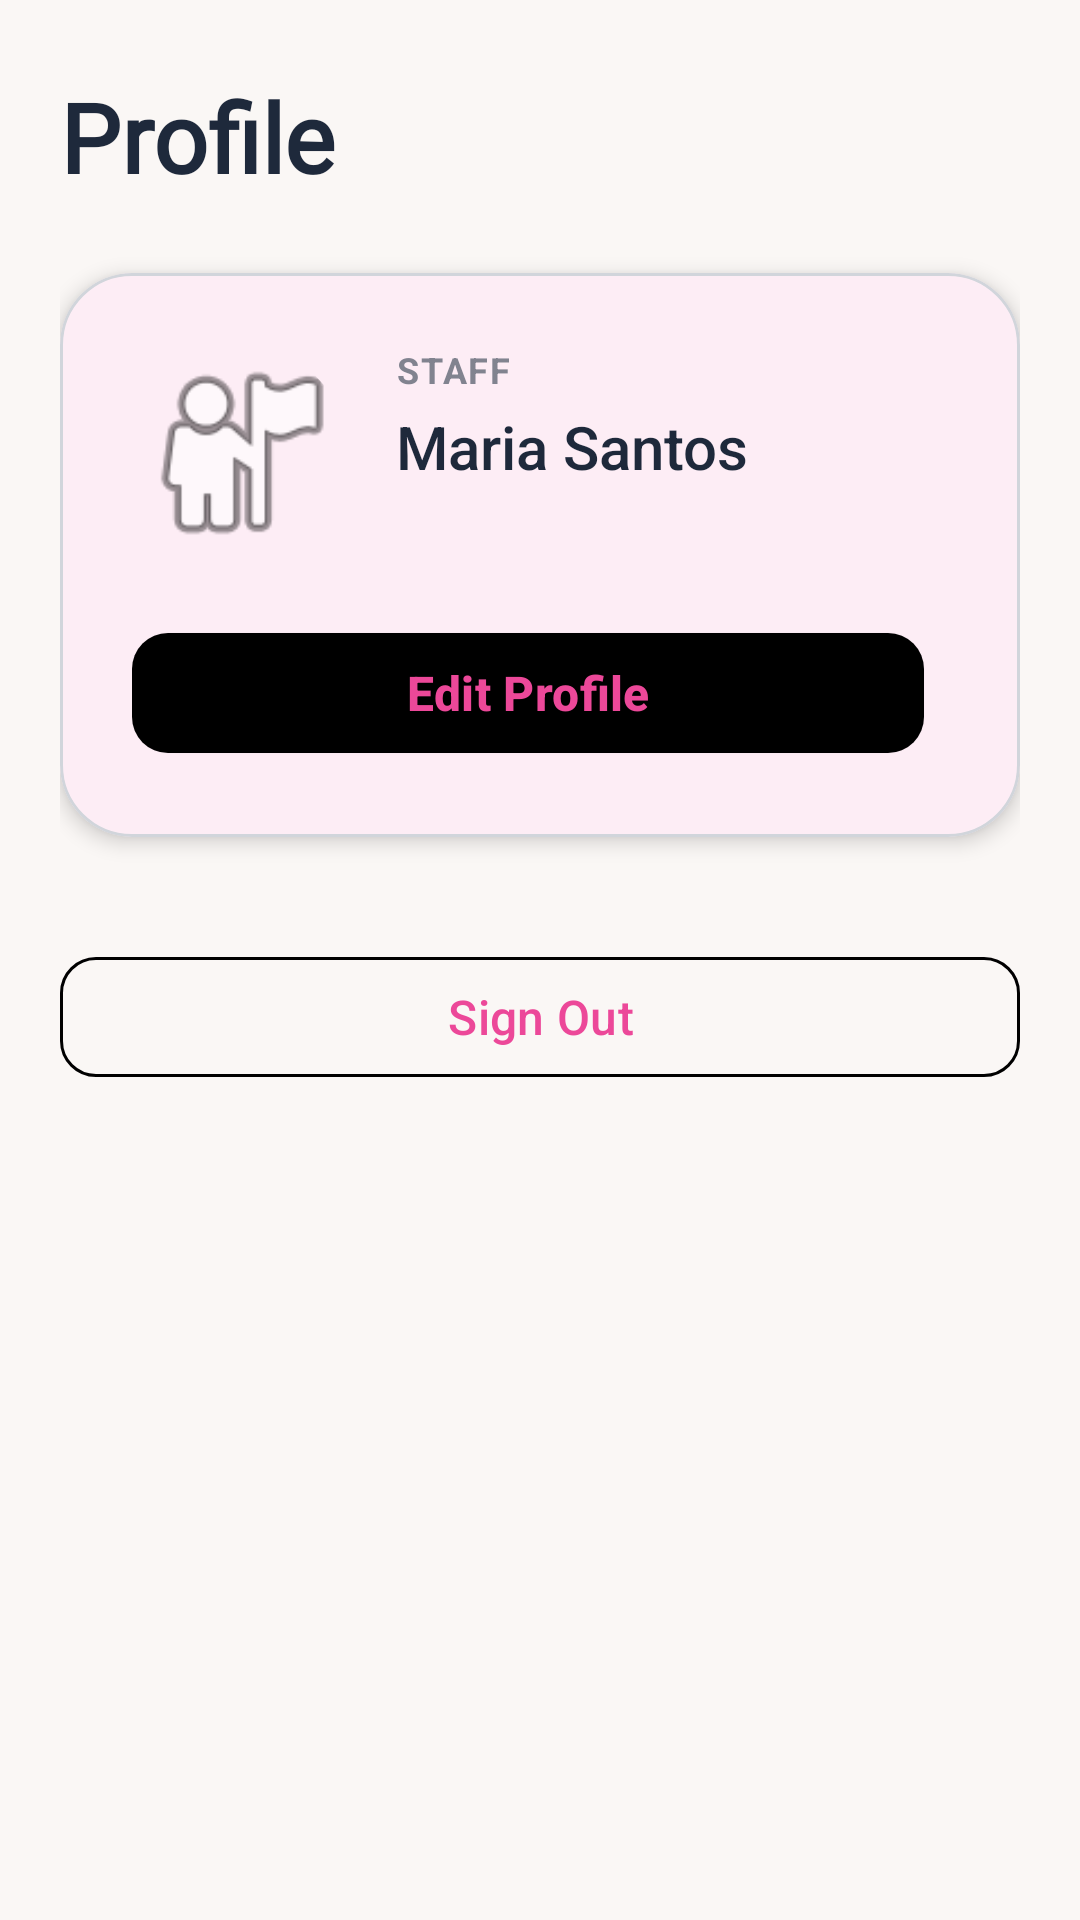

Where icons sit on this 1080 × 1920 app screen, as [x1,y1,x2,y2]:
myplaces: [161,372,324,534]
